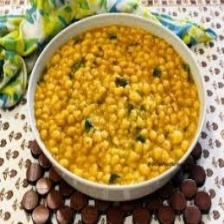dal: (31, 19, 206, 192)
